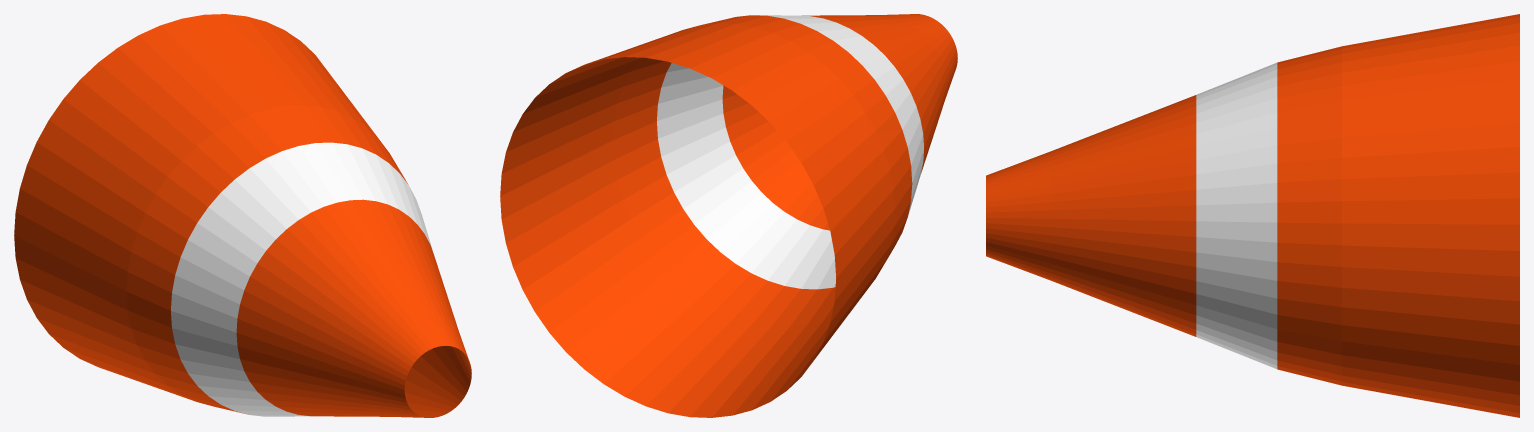
The model's file is traffic_cone.obj.
The picture shows the model from 3 angles, left to right: view 1: azimuth 30°, elevation 25°; view 2: azimuth 150°, elevation 25°; view 3: azimuth 270°, elevation 25°; orthographic projection. The views are drawn at different scales.
Bounding box in the file's own units: 0.5 × 0.5 × 0.66.
